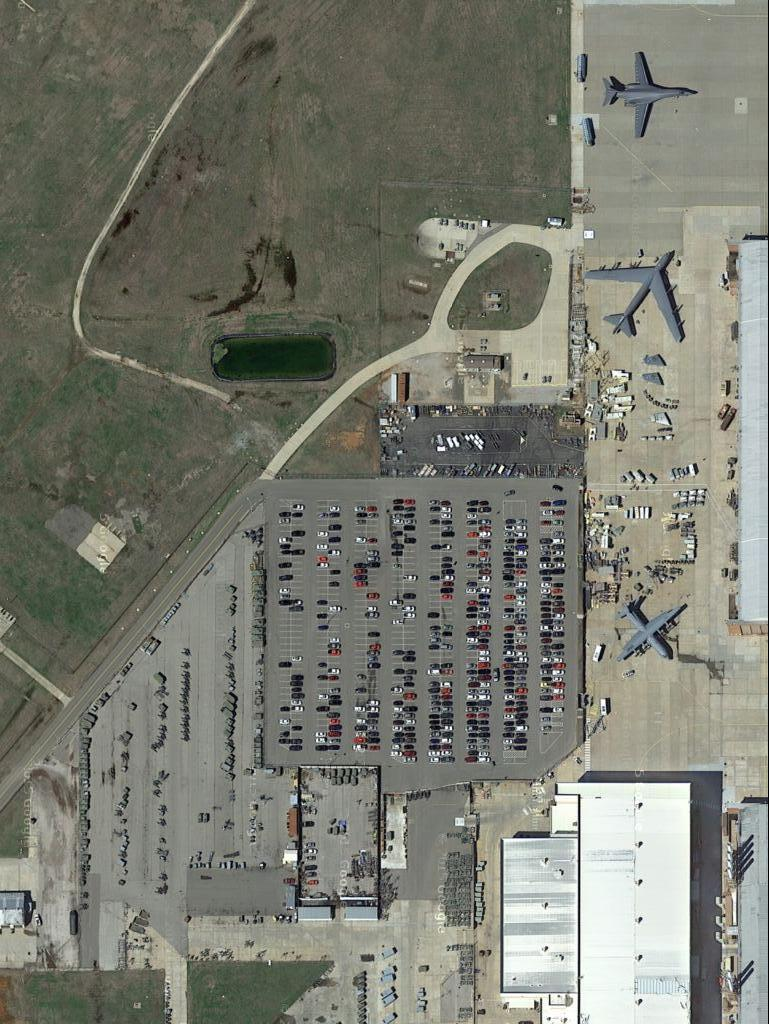B-1B: (606, 51, 694, 142)
B-52: (589, 245, 685, 348)
C-130: (613, 590, 687, 666)
